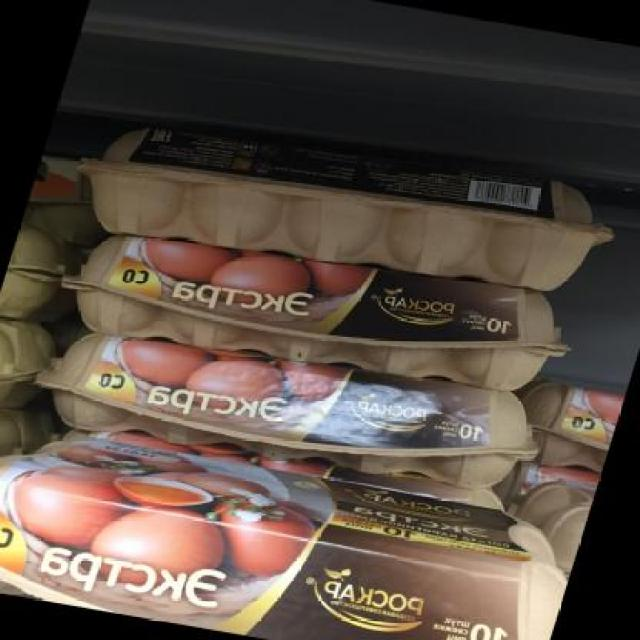Egg: (0, 412, 586, 640), (48, 212, 589, 410), (14, 318, 558, 510), (501, 372, 627, 477), (0, 216, 80, 329), (0, 312, 66, 431)
